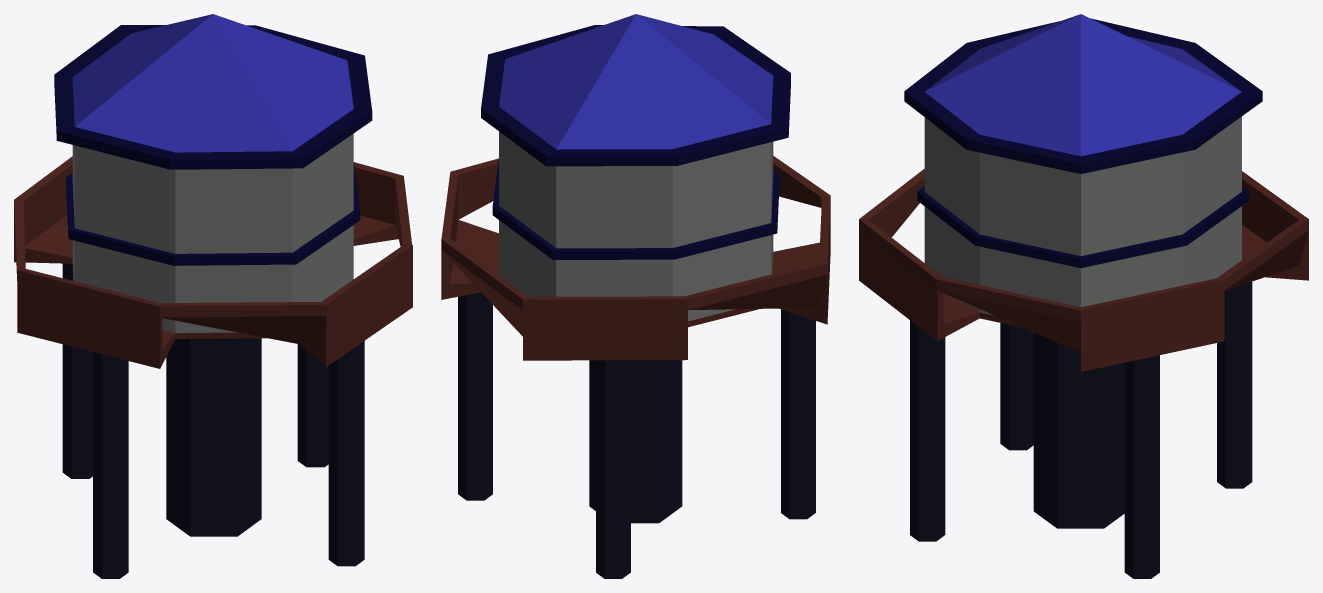
File: Agua.fbx
The picture shows the model from 3 angles, left to right: view 1: azimuth 30°, elevation 25°; view 2: azimuth 150°, elevation 25°; view 3: azimuth 270°, elevation 25°; orthographic projection. The views are drawn at different scales.
Parts seen in each view (by area): view 1: Tanque; view 2: Tanque; view 3: Tanque.
Boxes of the visible parts, x1,y1,x2,y2 form: Tanque: [14, 14, 412, 578]; Tanque: [441, 14, 830, 578]; Tanque: [859, 14, 1308, 578].
Size of the model in its own units: 2248 by 2807 by 2301.
